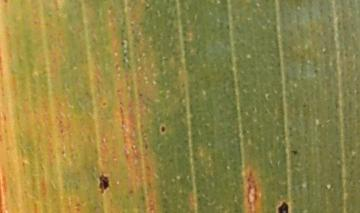tarspot: (97, 172, 110, 195), (276, 200, 289, 213), (1, 109, 8, 122), (289, 148, 299, 156), (143, 2, 151, 12), (136, 91, 144, 100), (114, 87, 122, 95), (159, 124, 166, 133), (142, 141, 149, 150), (127, 188, 135, 195), (161, 56, 169, 63), (301, 101, 307, 110), (100, 101, 108, 107), (122, 50, 128, 58), (119, 40, 125, 47), (225, 23, 230, 31), (312, 68, 318, 74), (2, 1, 9, 4)
